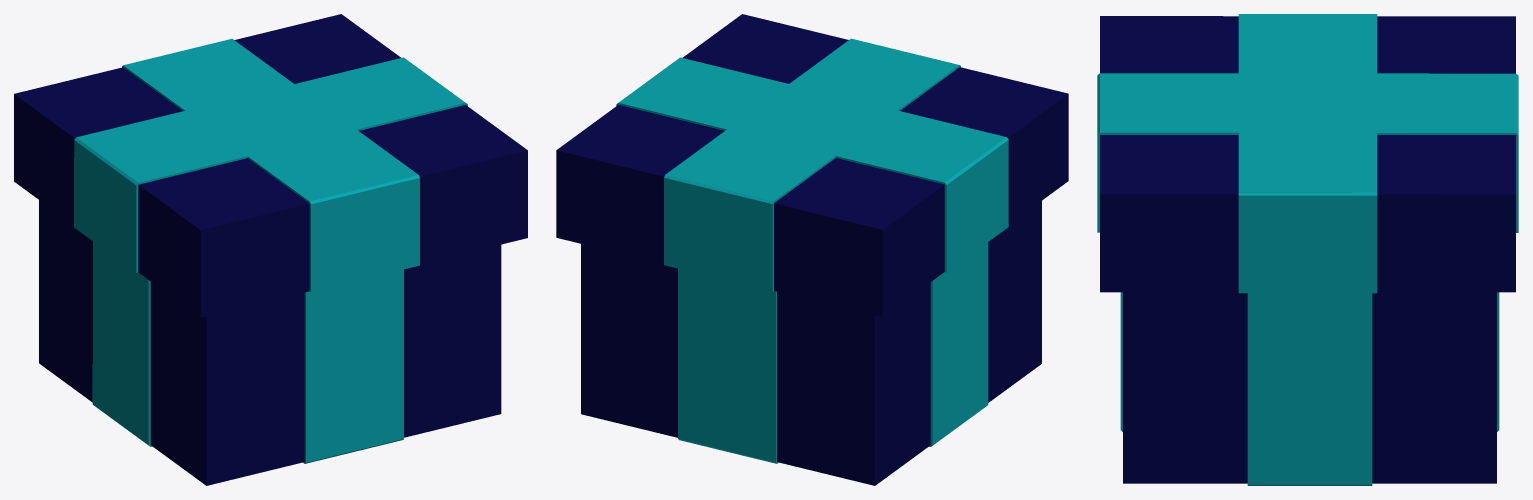
3 renders of one model, left to right at view 1: azimuth 30°, elevation 25°; view 2: azimuth 150°, elevation 25°; view 3: azimuth 270°, elevation 25°, orthographic. The views are drawn at different scales.
Parts seen in each view (by area): view 1: pCube2, pCube1; view 2: pCube2, pCube1; view 3: pCube2, pCube1.
Boxes of the visible parts, x1=… form: pCube2: x1=14, y1=14, x2=527, y2=317; pCube1: x1=39, y1=200, x2=501, y2=485; pCube2: x1=556, y1=14, x2=1068, y2=317; pCube1: x1=581, y1=201, x2=1041, y2=485; pCube2: x1=1097, y1=14, x2=1518, y2=293; pCube1: x1=1120, y1=292, x2=1499, y2=485.
Bounding box in the file's own units: 3.39 × 2.65 × 3.34.
